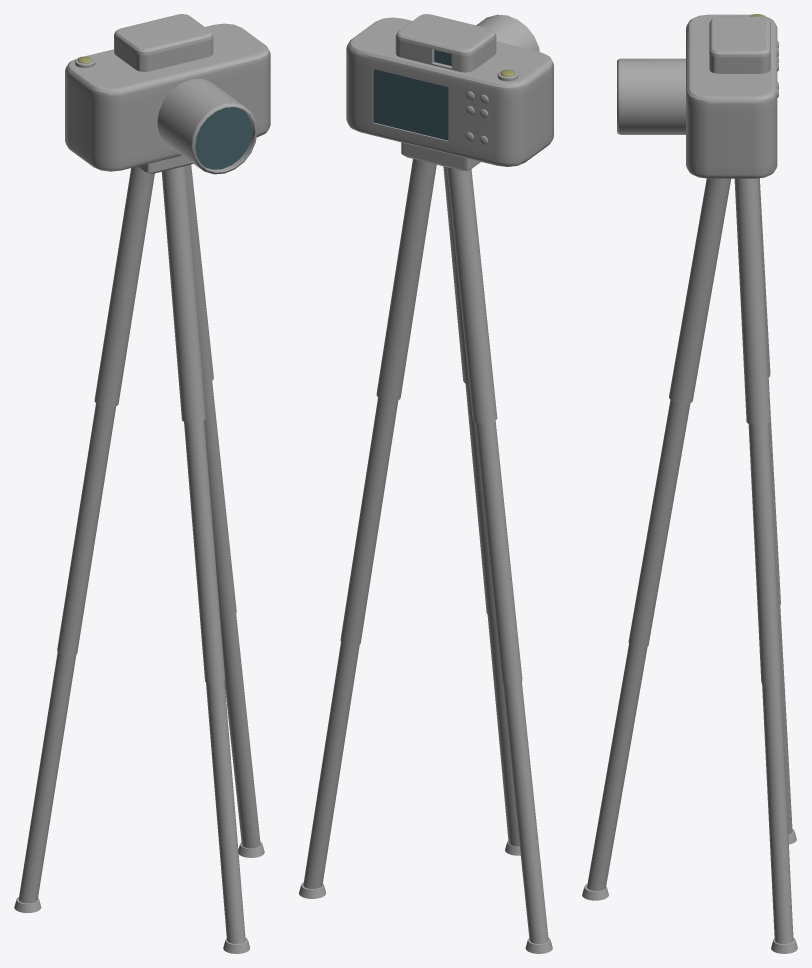
File: Camera.fbx
The picture shows the model from 3 angles, left to right: view 1: azimuth 30°, elevation 25°; view 2: azimuth 150°, elevation 25°; view 3: azimuth 270°, elevation 25°; orthographic projection.
Visible parts, largest first — view 1: Tripod, Camera; view 2: Tripod, Camera; view 3: Tripod, Camera.
Boxes of the visible parts, left/top/right/bottom form: Tripod: left=14, top=155, right=264, bottom=953; Camera: left=65, top=14, right=270, bottom=174; Tripod: left=299, top=142, right=552, bottom=953; Camera: left=346, top=14, right=553, bottom=166; Tripod: left=582, top=178, right=797, bottom=953; Camera: left=617, top=14, right=778, bottom=178.
Size of the model in its own units: 1699 by 5673 by 1288.
